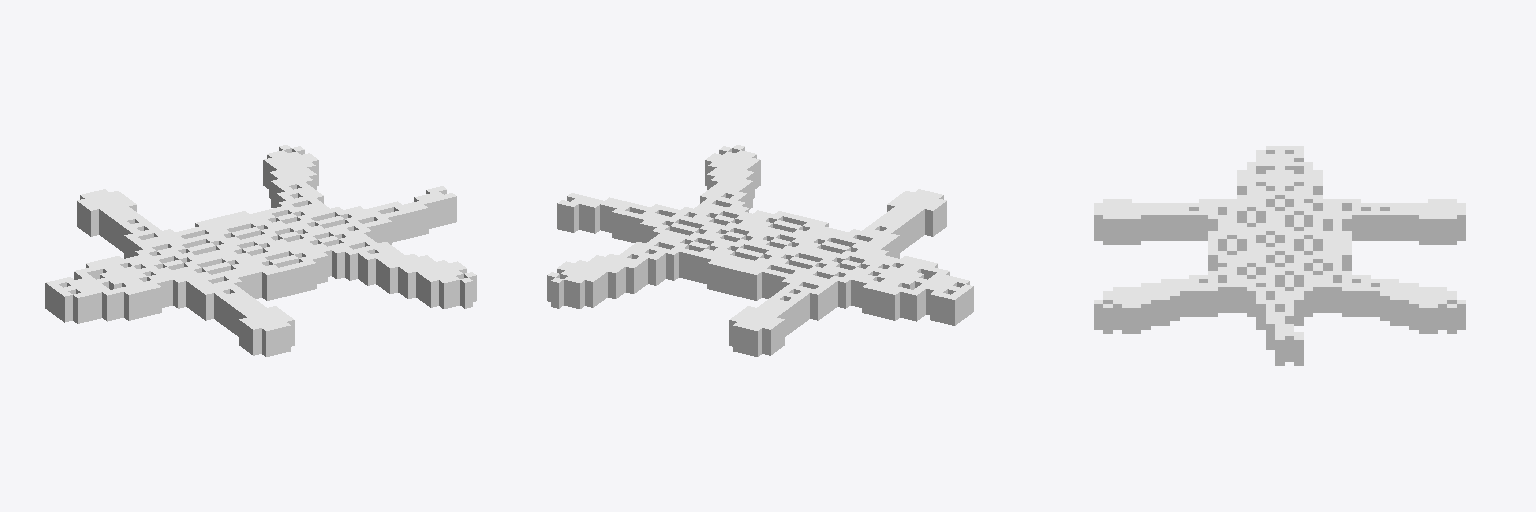
File: rug-0-b27.obj
3 views of the same model, side by side, from view 1: azimuth 30°, elevation 25°; view 2: azimuth 150°, elevation 25°; view 3: azimuth 270°, elevation 25° (orthographic).
Visible parts, largest first — view 1: b27; view 2: b27; view 3: b27.
Part boxes in pixels (bbox=[...]): b27: bbox=[45, 145, 476, 356]; b27: bbox=[547, 145, 973, 356]; b27: bbox=[1094, 146, 1465, 365].
Bounding box in the file's own units: 4.8 × 0.3 × 3.9.